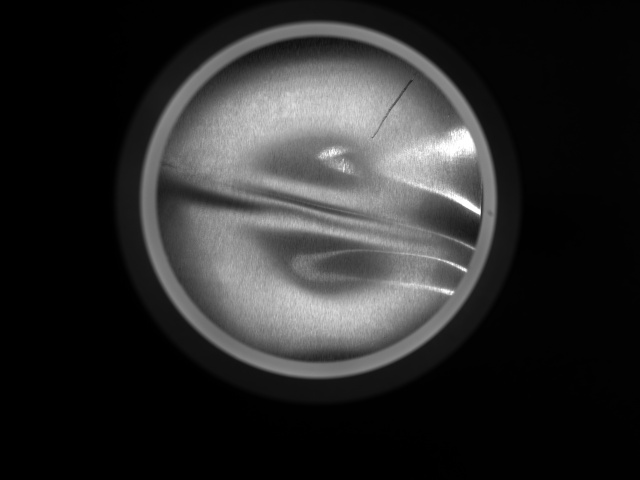ca_shang: (369, 76, 416, 143)
zhe_zhou: (201, 64, 438, 333)
